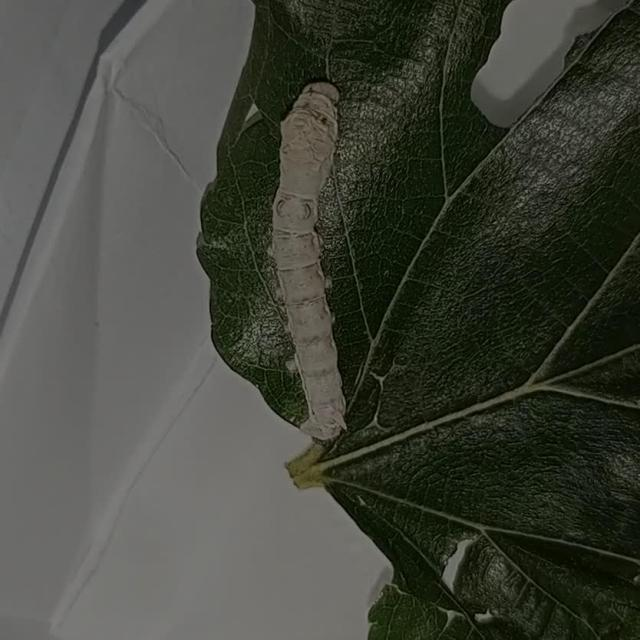Healthy: (238, 52, 417, 476)
